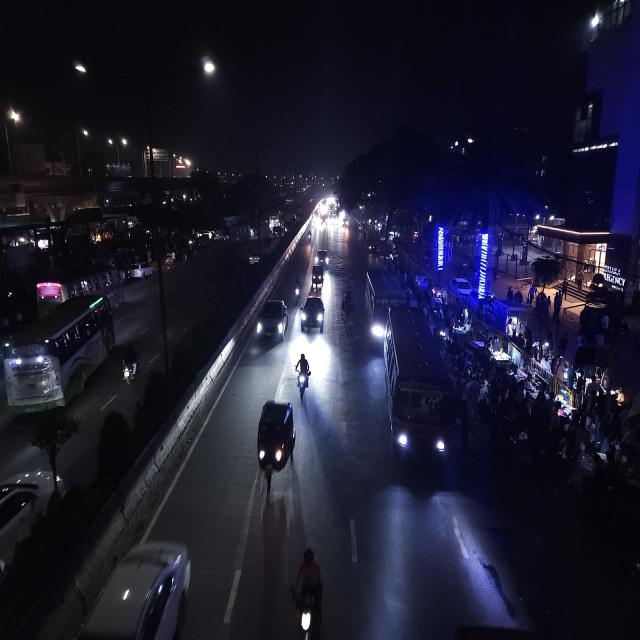bus: (2, 290, 118, 412), (383, 303, 457, 481), (362, 267, 402, 348)
car: (58, 535, 198, 640), (0, 471, 44, 606), (254, 294, 290, 346), (299, 290, 327, 338), (449, 274, 472, 302), (131, 260, 154, 280), (314, 247, 329, 267), (247, 249, 263, 267), (126, 264, 142, 282)
cng: (252, 396, 298, 492), (310, 264, 325, 294)
motorcycle: (287, 542, 328, 640), (119, 342, 141, 388), (293, 350, 313, 398), (292, 274, 302, 307)
